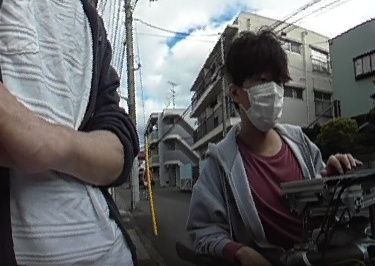person: (205, 31, 337, 266)
